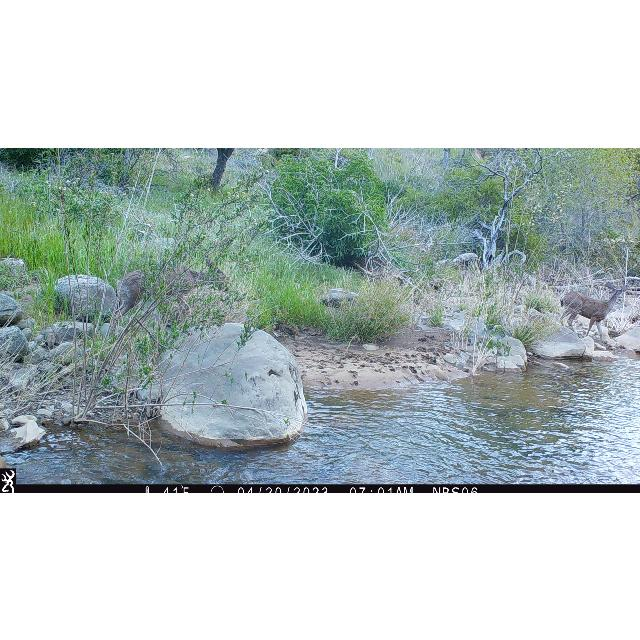animals: (112, 258, 228, 336), (560, 280, 628, 340)
